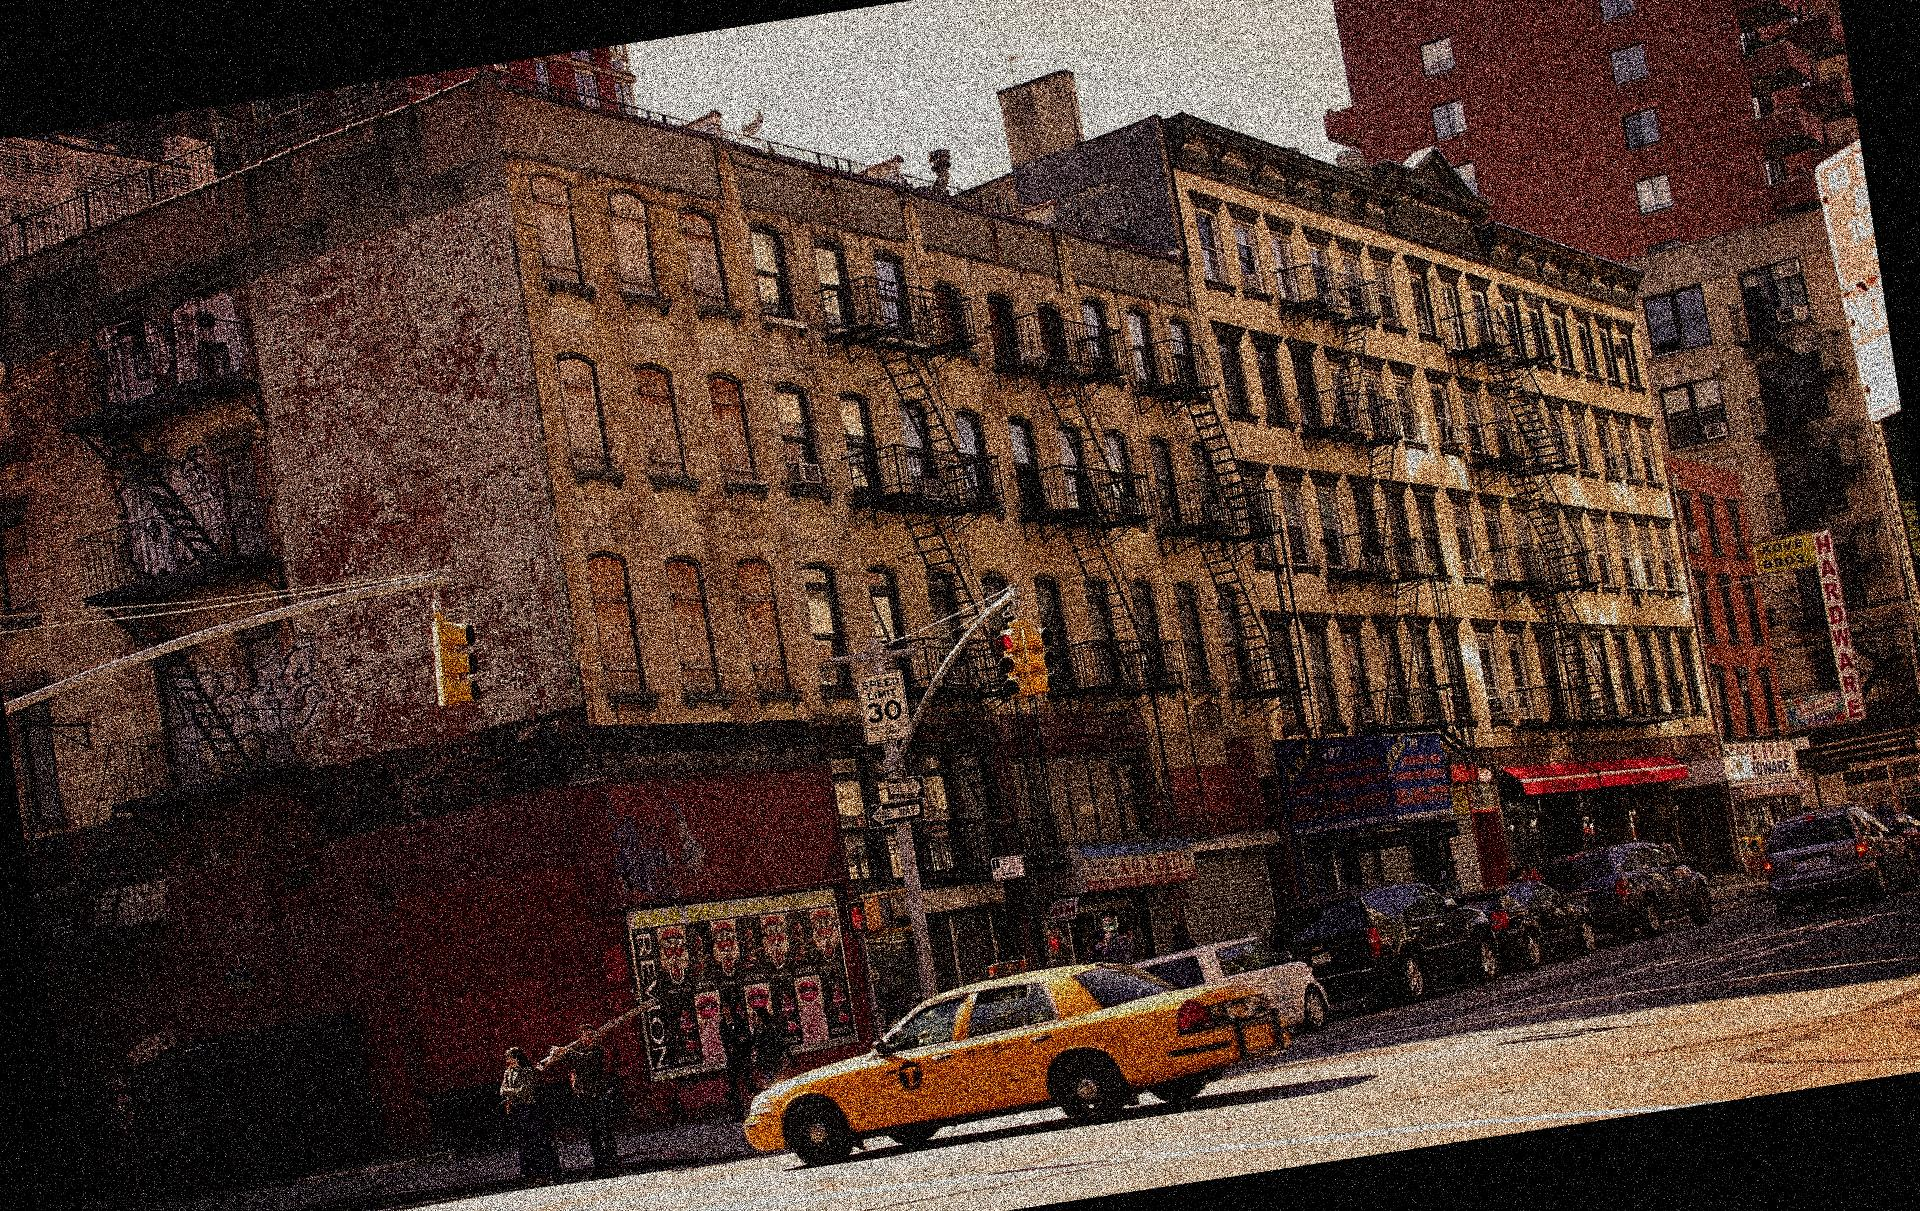taxi: (728, 972, 1273, 1178)
